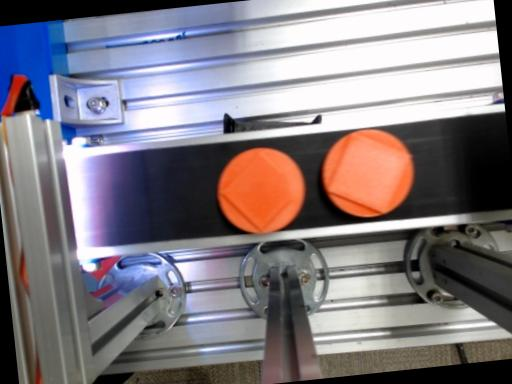Orange_Waper: (322, 129, 414, 216), (217, 147, 305, 232)
